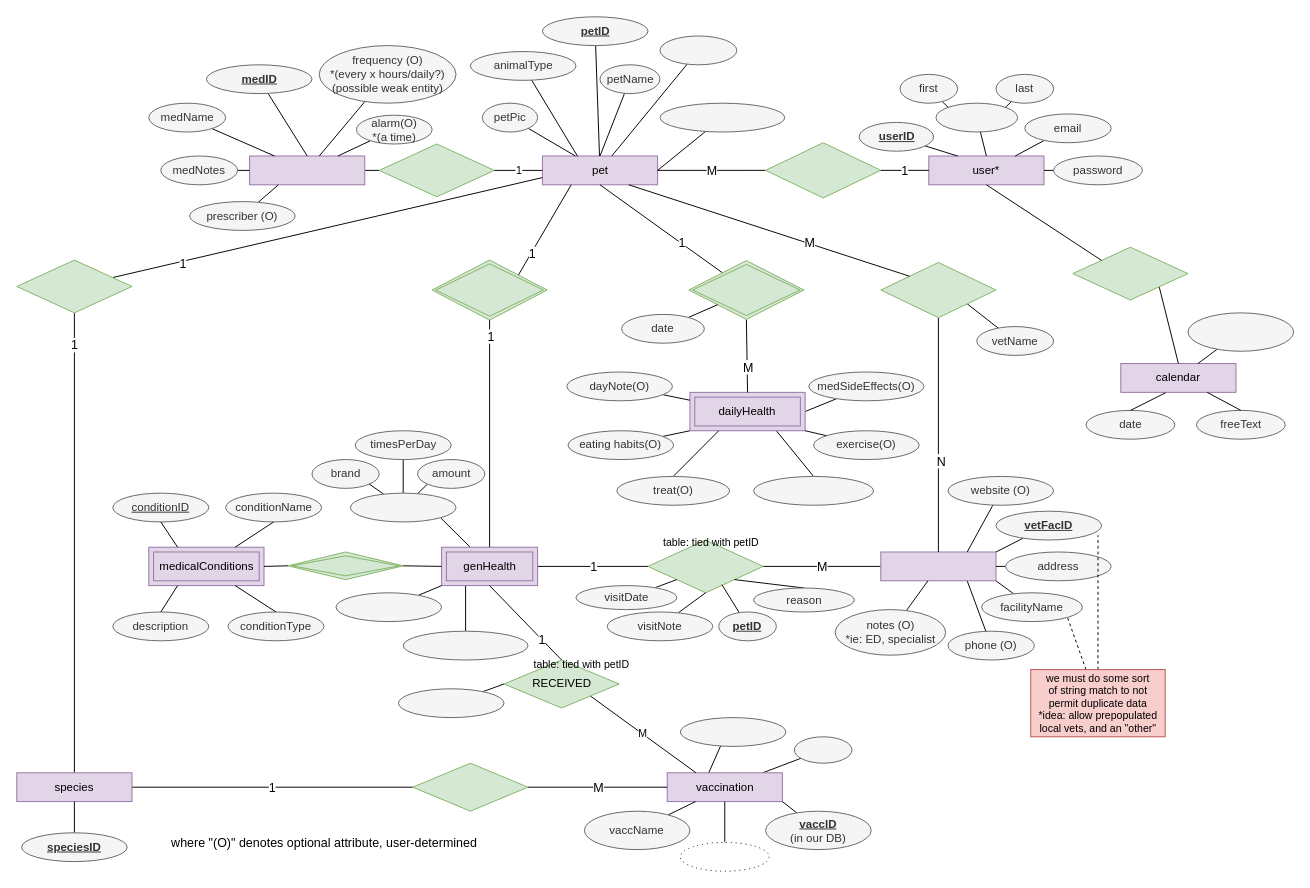
The diagram is 1310 pixels wide and 888 high, and some of its shapes have lost their labels. The shapes that lost their labels are listed below. From the top down, each one's box as (x1, y1, x2, y2) in pixels, then its label:
(659, 35, 737, 65): birthDate
(659, 102, 785, 132): microchipNum (O)
(935, 102, 1018, 132): userName
(249, 155, 365, 185): medications
(378, 143, 494, 197): TAKES
(765, 142, 881, 198): CARES_FOR
(16, 259, 132, 313): IS_A
(431, 259, 547, 320): HAS
(688, 260, 804, 319): EXPERIENCES
(880, 262, 996, 318): PREFFERED
(1072, 246, 1188, 300): WRITES_ON
(1187, 312, 1294, 351): petID (O) *foreign key
(349, 492, 456, 522): food
(753, 475, 874, 505): voidingHabbits(O)
(287, 551, 403, 580): INCLUDES
(647, 539, 763, 593): TREATED
(880, 551, 996, 581): vetFacility
(335, 592, 442, 622): weight
(402, 630, 528, 660): recentVitals (O)
(397, 688, 504, 718): vaccDate
(679, 717, 786, 746): seriesFrequency
(793, 736, 852, 763): doses
(412, 762, 528, 811): GETS
(679, 841, 769, 871): verified (O)
